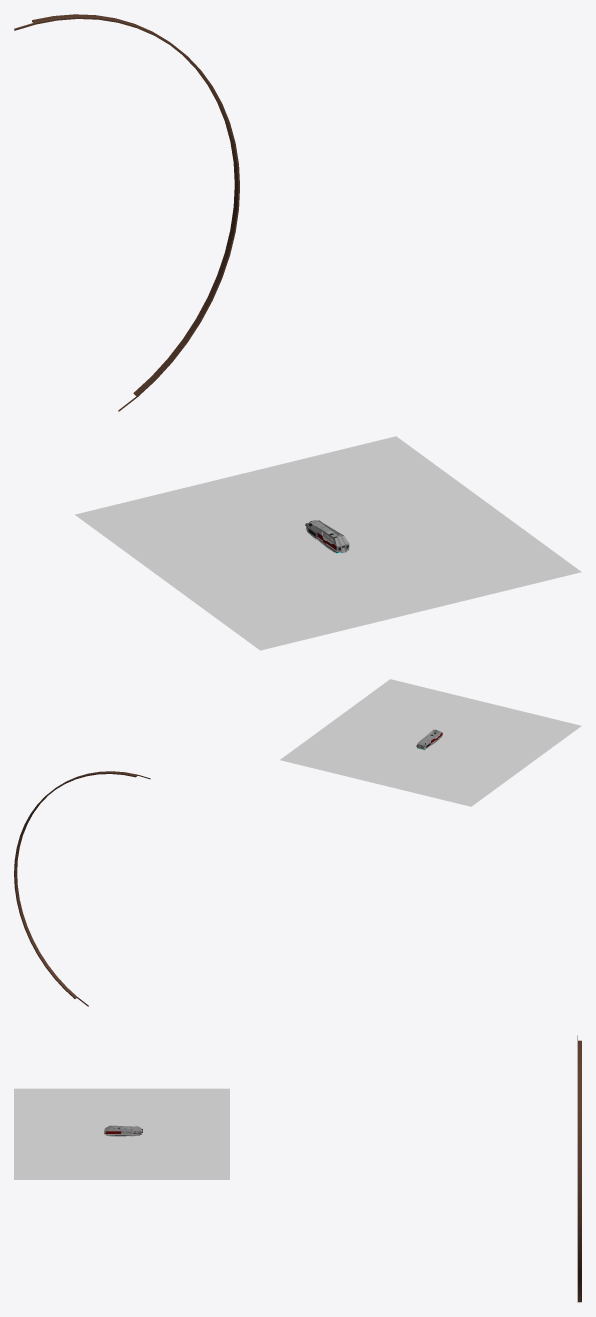
File: finallast.obj
The picture shows the model from 3 angles, top to bottom: view 1: azimuth 30°, elevation 25°; view 2: azimuth 150°, elevation 25°; view 3: azimuth 270°, elevation 25°; orthographic projection. The views are drawn at different scales.
Visible parts, largest first — view 1: Plane, 12217_rocket_v1_l1, Tank; view 2: Plane, 12217_rocket_v1_l1; view 3: Plane, 12217_rocket_v1_l1, Tank.
Boxes of the visible parts, bbox=[...] form: Plane: bbox=[75, 436, 581, 650]; 12217_rocket_v1_l1: bbox=[14, 14, 307, 525]; Tank: bbox=[306, 519, 349, 553]; Plane: bbox=[280, 679, 581, 806]; 12217_rocket_v1_l1: bbox=[14, 745, 423, 1006]; Plane: bbox=[14, 1088, 229, 1179]; 12217_rocket_v1_l1: bbox=[141, 1035, 581, 1302]; Tank: bbox=[104, 1125, 141, 1136].
Bounding box in the file's own units: 174 × 146 × 316.
